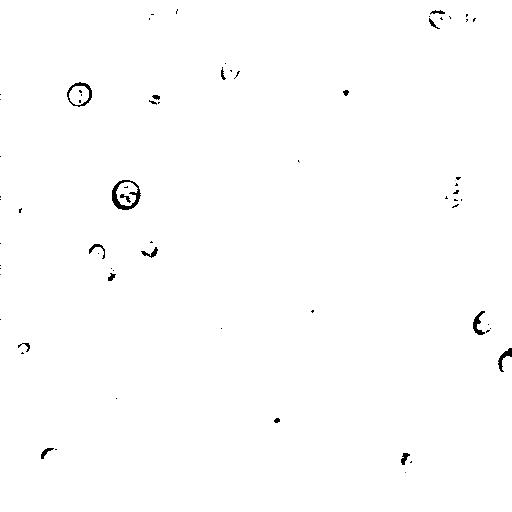micro-algae: (388, 440, 421, 473), (111, 179, 143, 211), (335, 80, 362, 111), (67, 81, 95, 108), (441, 170, 468, 195), (304, 301, 332, 324), (14, 201, 38, 227), (426, 9, 453, 32), (473, 309, 495, 337), (172, 0, 193, 27), (269, 411, 292, 435), (108, 382, 130, 407), (459, 5, 479, 32), (219, 59, 242, 81), (293, 147, 313, 172), (93, 263, 117, 283), (441, 189, 464, 209), (497, 347, 512, 377), (136, 239, 159, 258), (85, 243, 105, 264), (39, 445, 59, 466), (142, 7, 162, 26), (15, 341, 31, 355)
